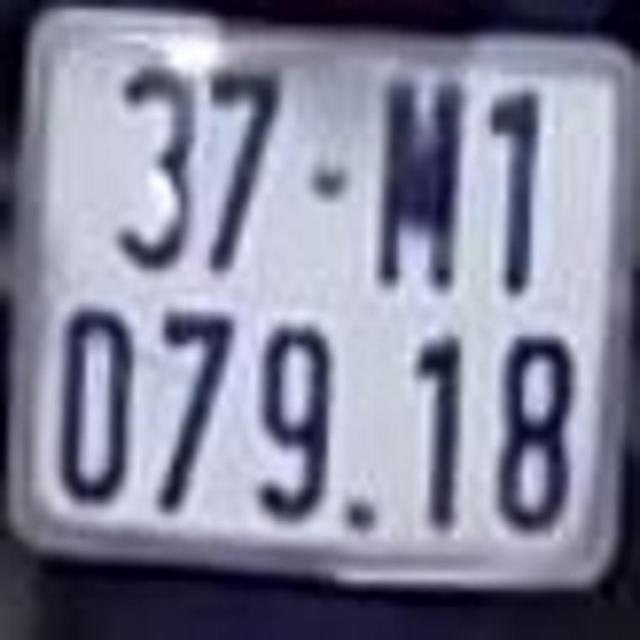0: (62, 294, 134, 508)
1: (482, 73, 544, 297), (407, 326, 472, 532)
3: (112, 58, 197, 273)
7: (154, 298, 237, 506), (206, 60, 280, 272)
8: (500, 316, 574, 538)
9: (255, 306, 333, 525)
H: (382, 68, 460, 295)
